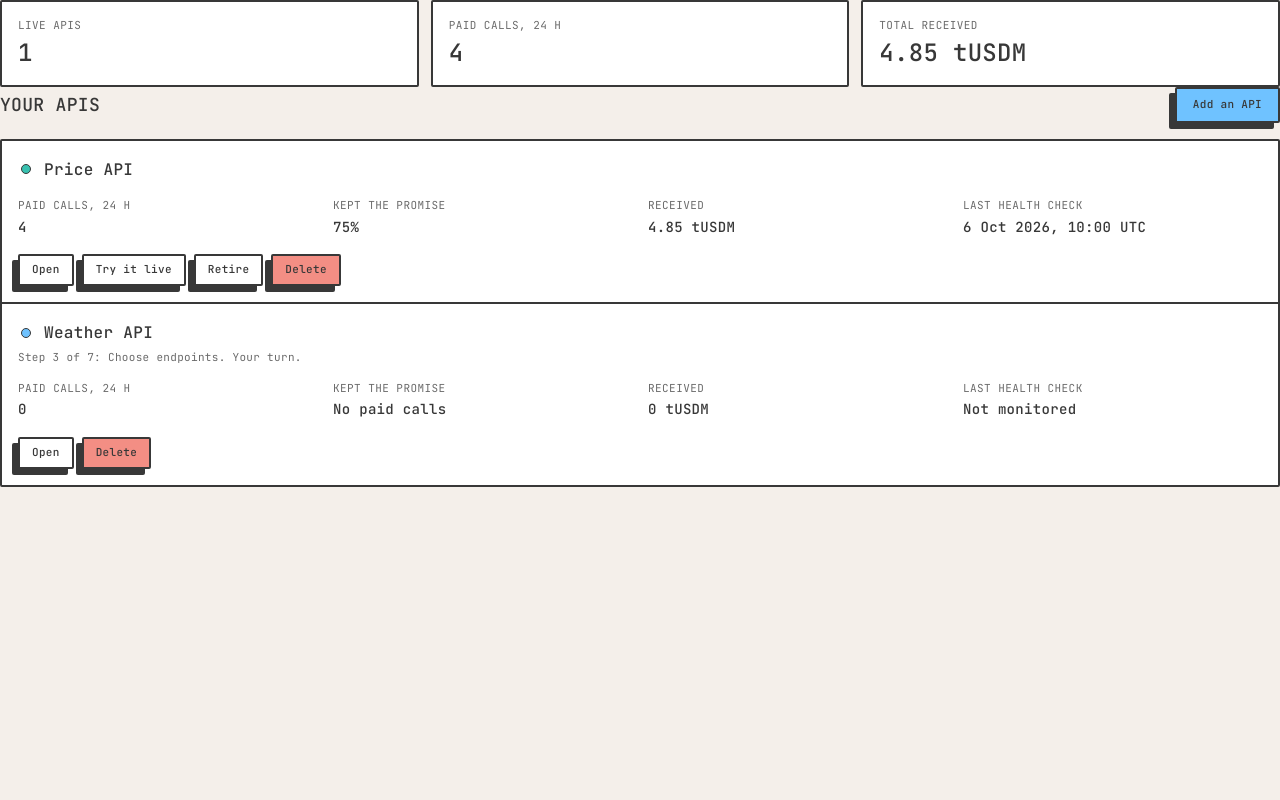
Scenario: AccountApis › retires a live API after a lighter confirmation and drops it from the live count
Step 1. Click the button "Retire" → (229, 270), box [194,254,263,286]
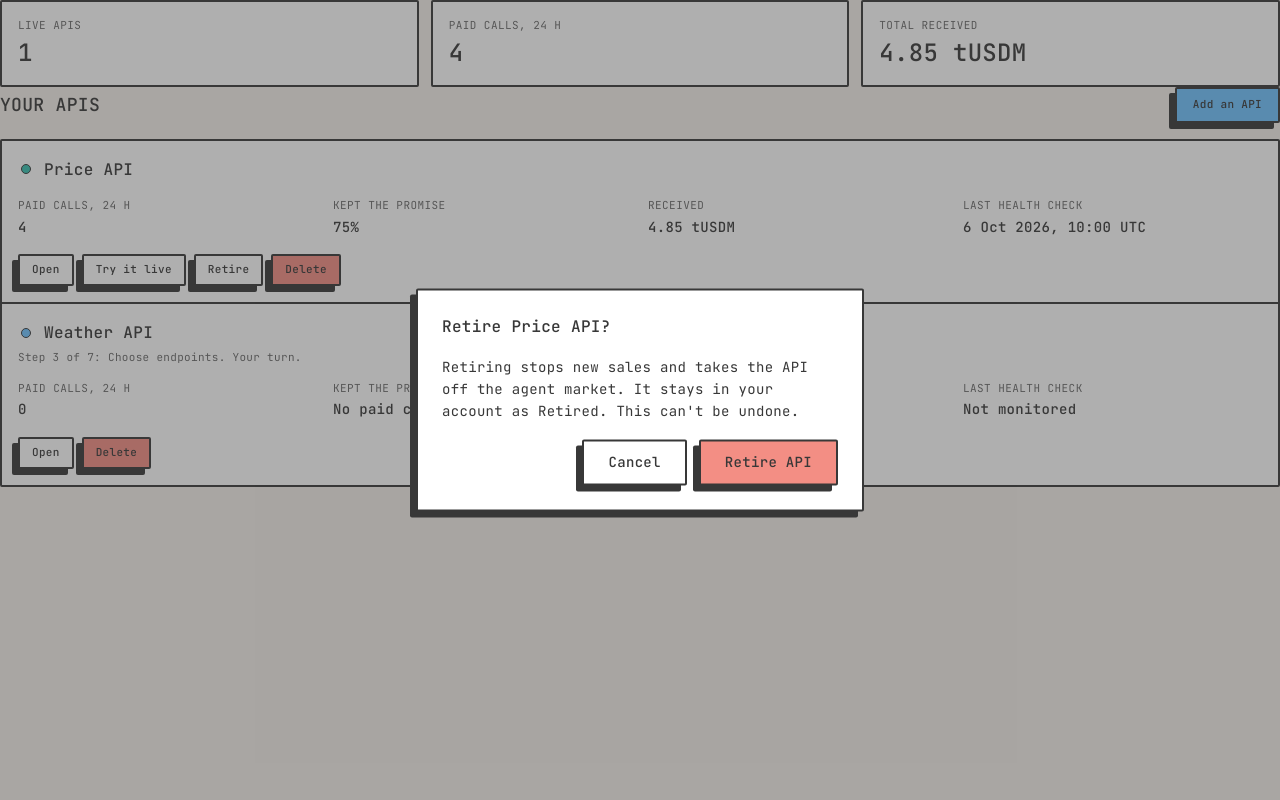
Step 2. Click the button "Retire API" → (768, 462), box [699,439,838,486]
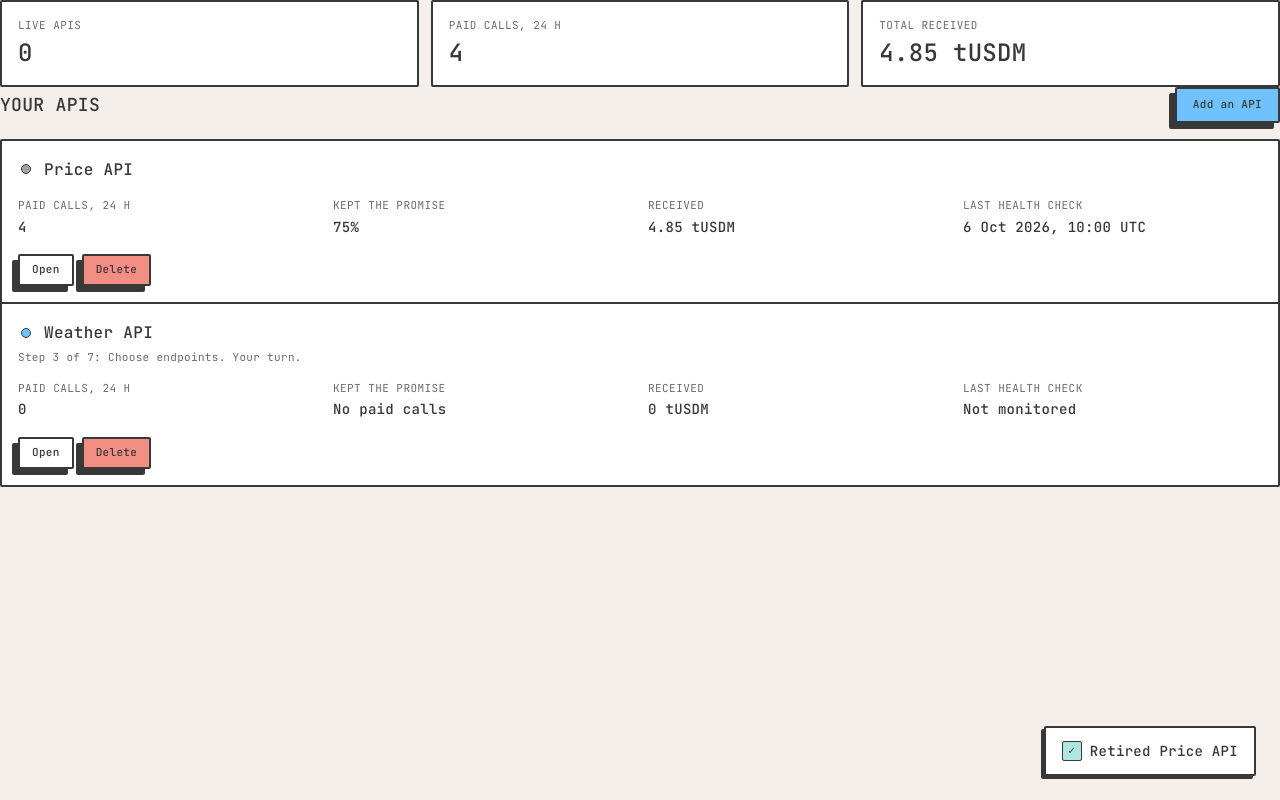
Expected: the picture named "Retired" is shown, [21,164,31,174]
Expected: the link "Try it live" is gone
Expected: the text "0" below "Live APIs" is shown, [18,37,33,68]
